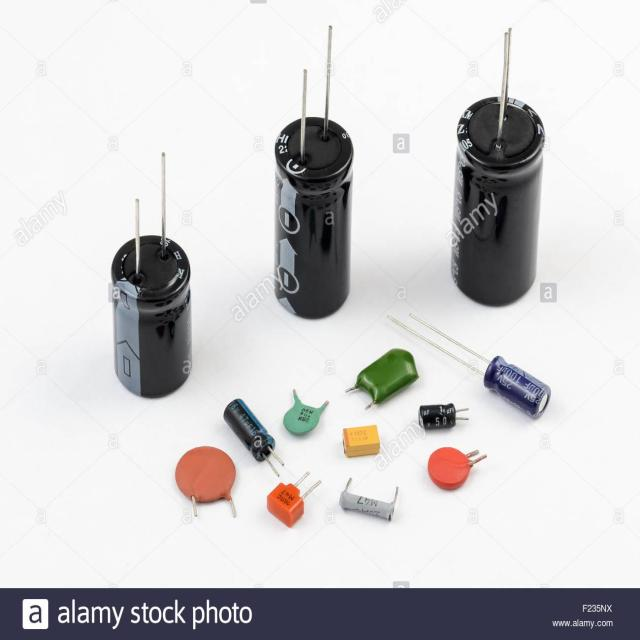Capacitor: (450, 29, 545, 306), (274, 105, 352, 317), (111, 231, 191, 396), (224, 398, 284, 476), (480, 357, 549, 414), (350, 350, 419, 406), (175, 446, 235, 504), (428, 448, 485, 489), (268, 480, 319, 525), (340, 490, 395, 519), (284, 398, 326, 434), (342, 427, 379, 456), (419, 405, 458, 429)
